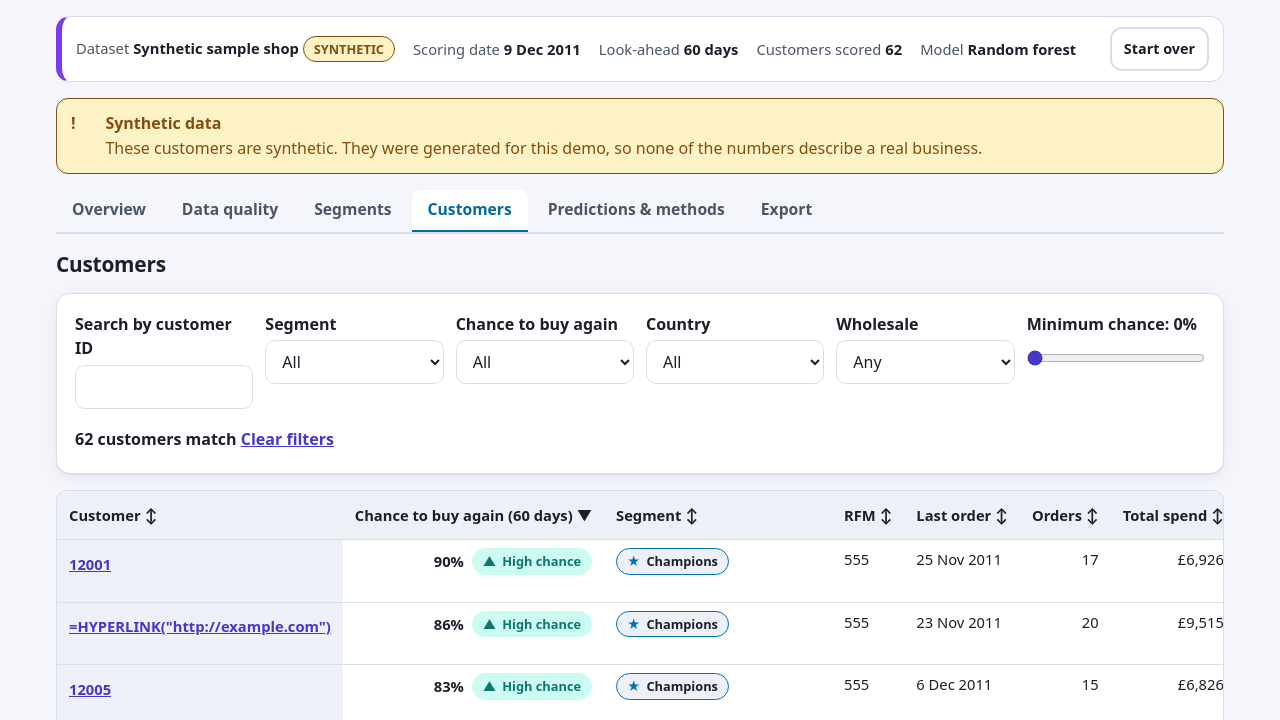
Test: Dashboard › customers tab filters, paginates and opens a drawer with drivers
Expected: the message shows "62 customers match", [75,428,237,450]
Select "Champions" in the dropdown labelled "Segment" at (354, 362), box [265,340,444,384]
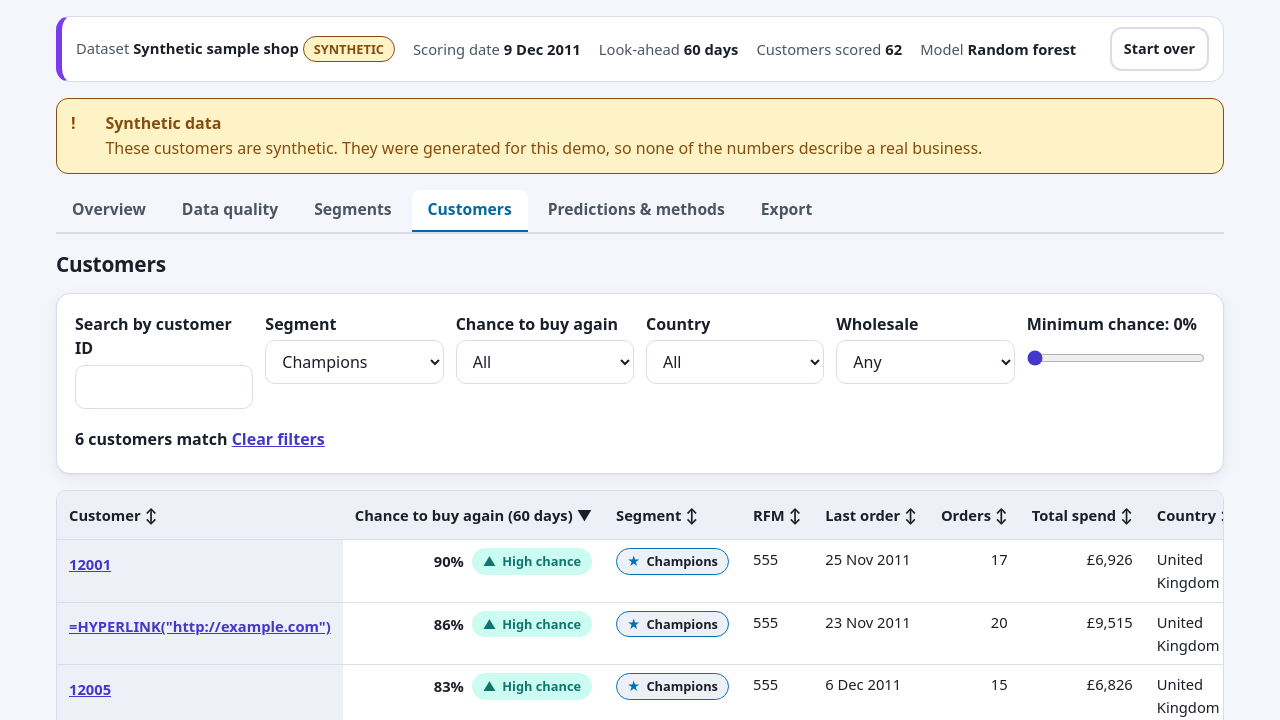
Expected: the message shows "6 customers match", [75,428,228,450]
Click the button named "open details for customer" at (90, 564), box [69,548,111,580]
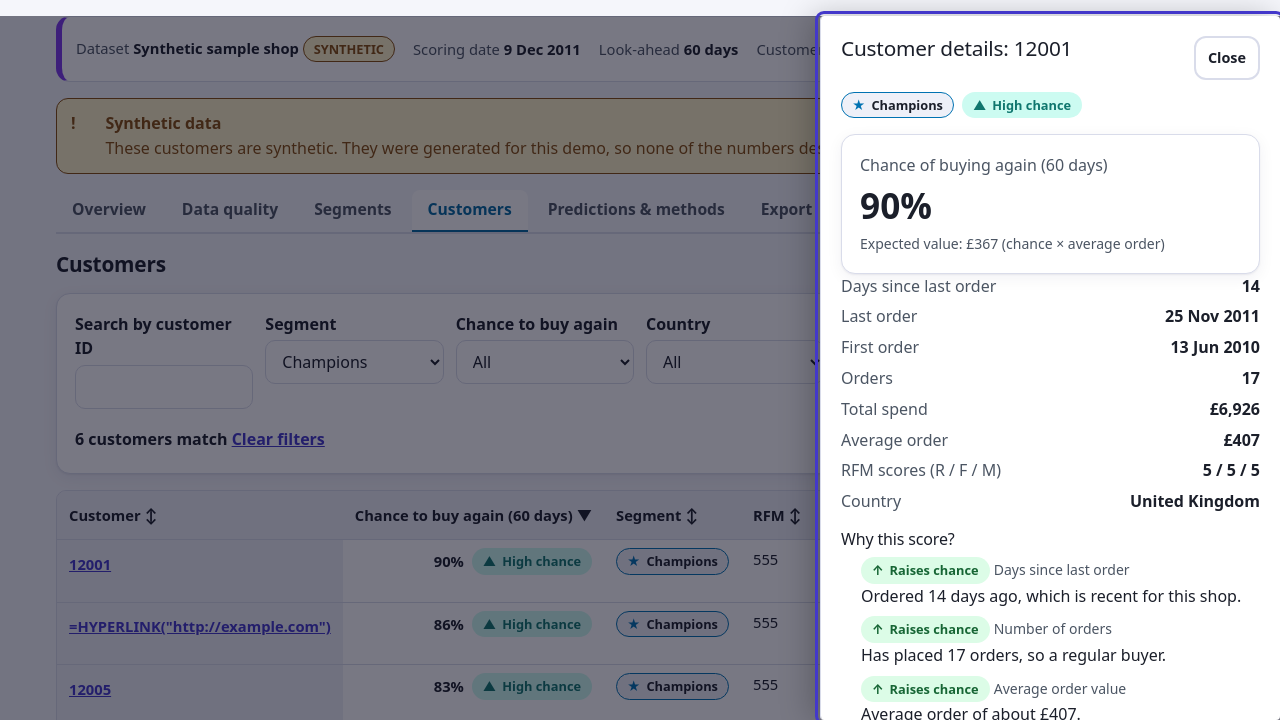
Expected: the heading "Why this score?" is shown, [841,528,955,550]
Expected: the number of list items is 3, [861,557,1260,608]; [861,616,1166,666]; [861,676,1126,719]
Press Escape
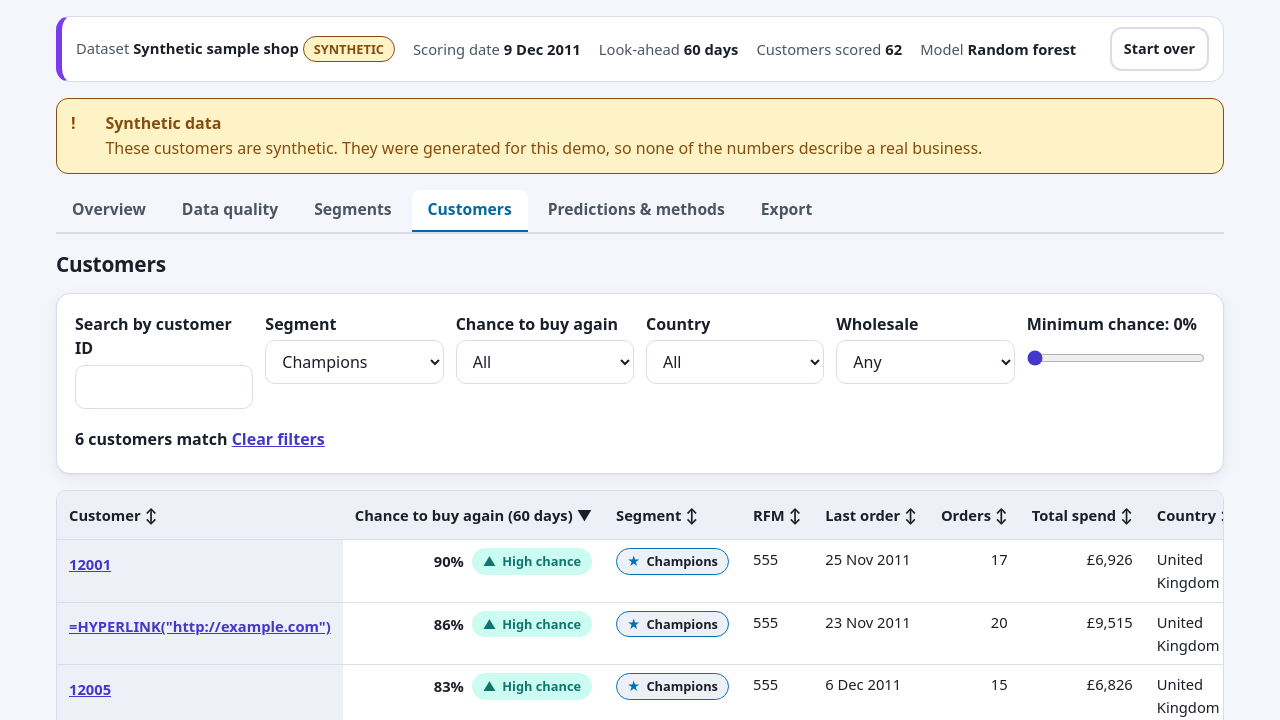
Expected: the dialog is gone
